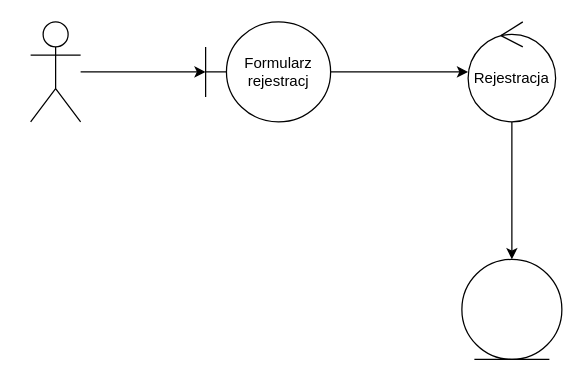
This 584x381 diagram has some shape labels left out. Each missing label, with the centre of its shape:
"Lista Rejestracji" goes at point 511,308.
"Pracownik" goes at point 55,71.
